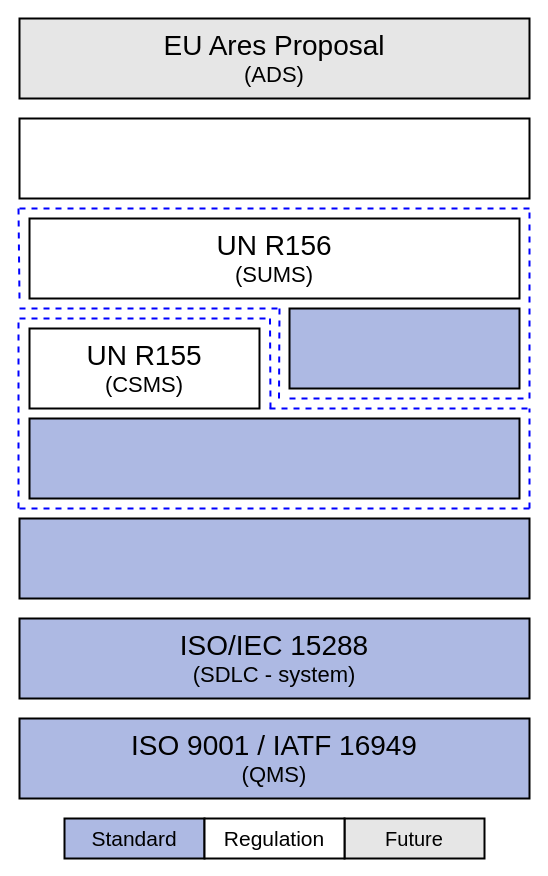
The diagram is 548 pixels wide and 876 high, and some of its shapes have lost their labels. The centre of each missing label's shape, as x and y in pixels:
"ISO 24089 (software update)" goes at [404,348].
"ISO/IEC/IEEE 12207 (SDLC - software)" goes at [274,558].
"ISO/SAE 21434 (cybersecurity engineering)" goes at [274,458].
"UN R157 (ALKS)" goes at [274,158].
